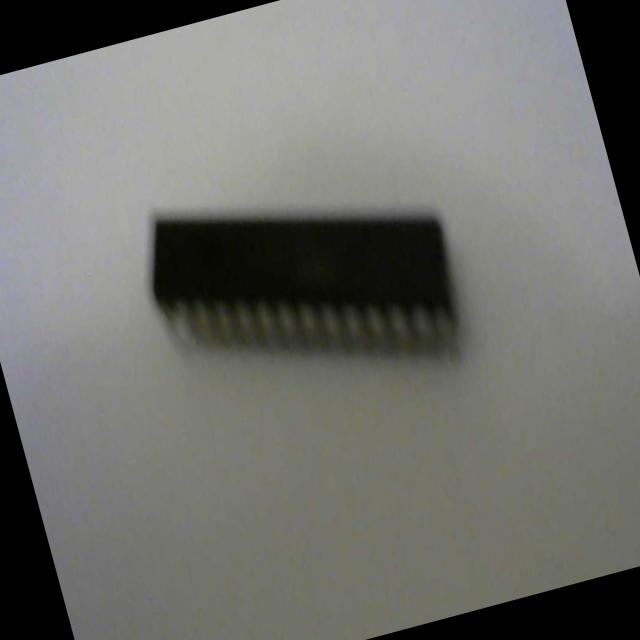atmega: (128, 133, 478, 432)
